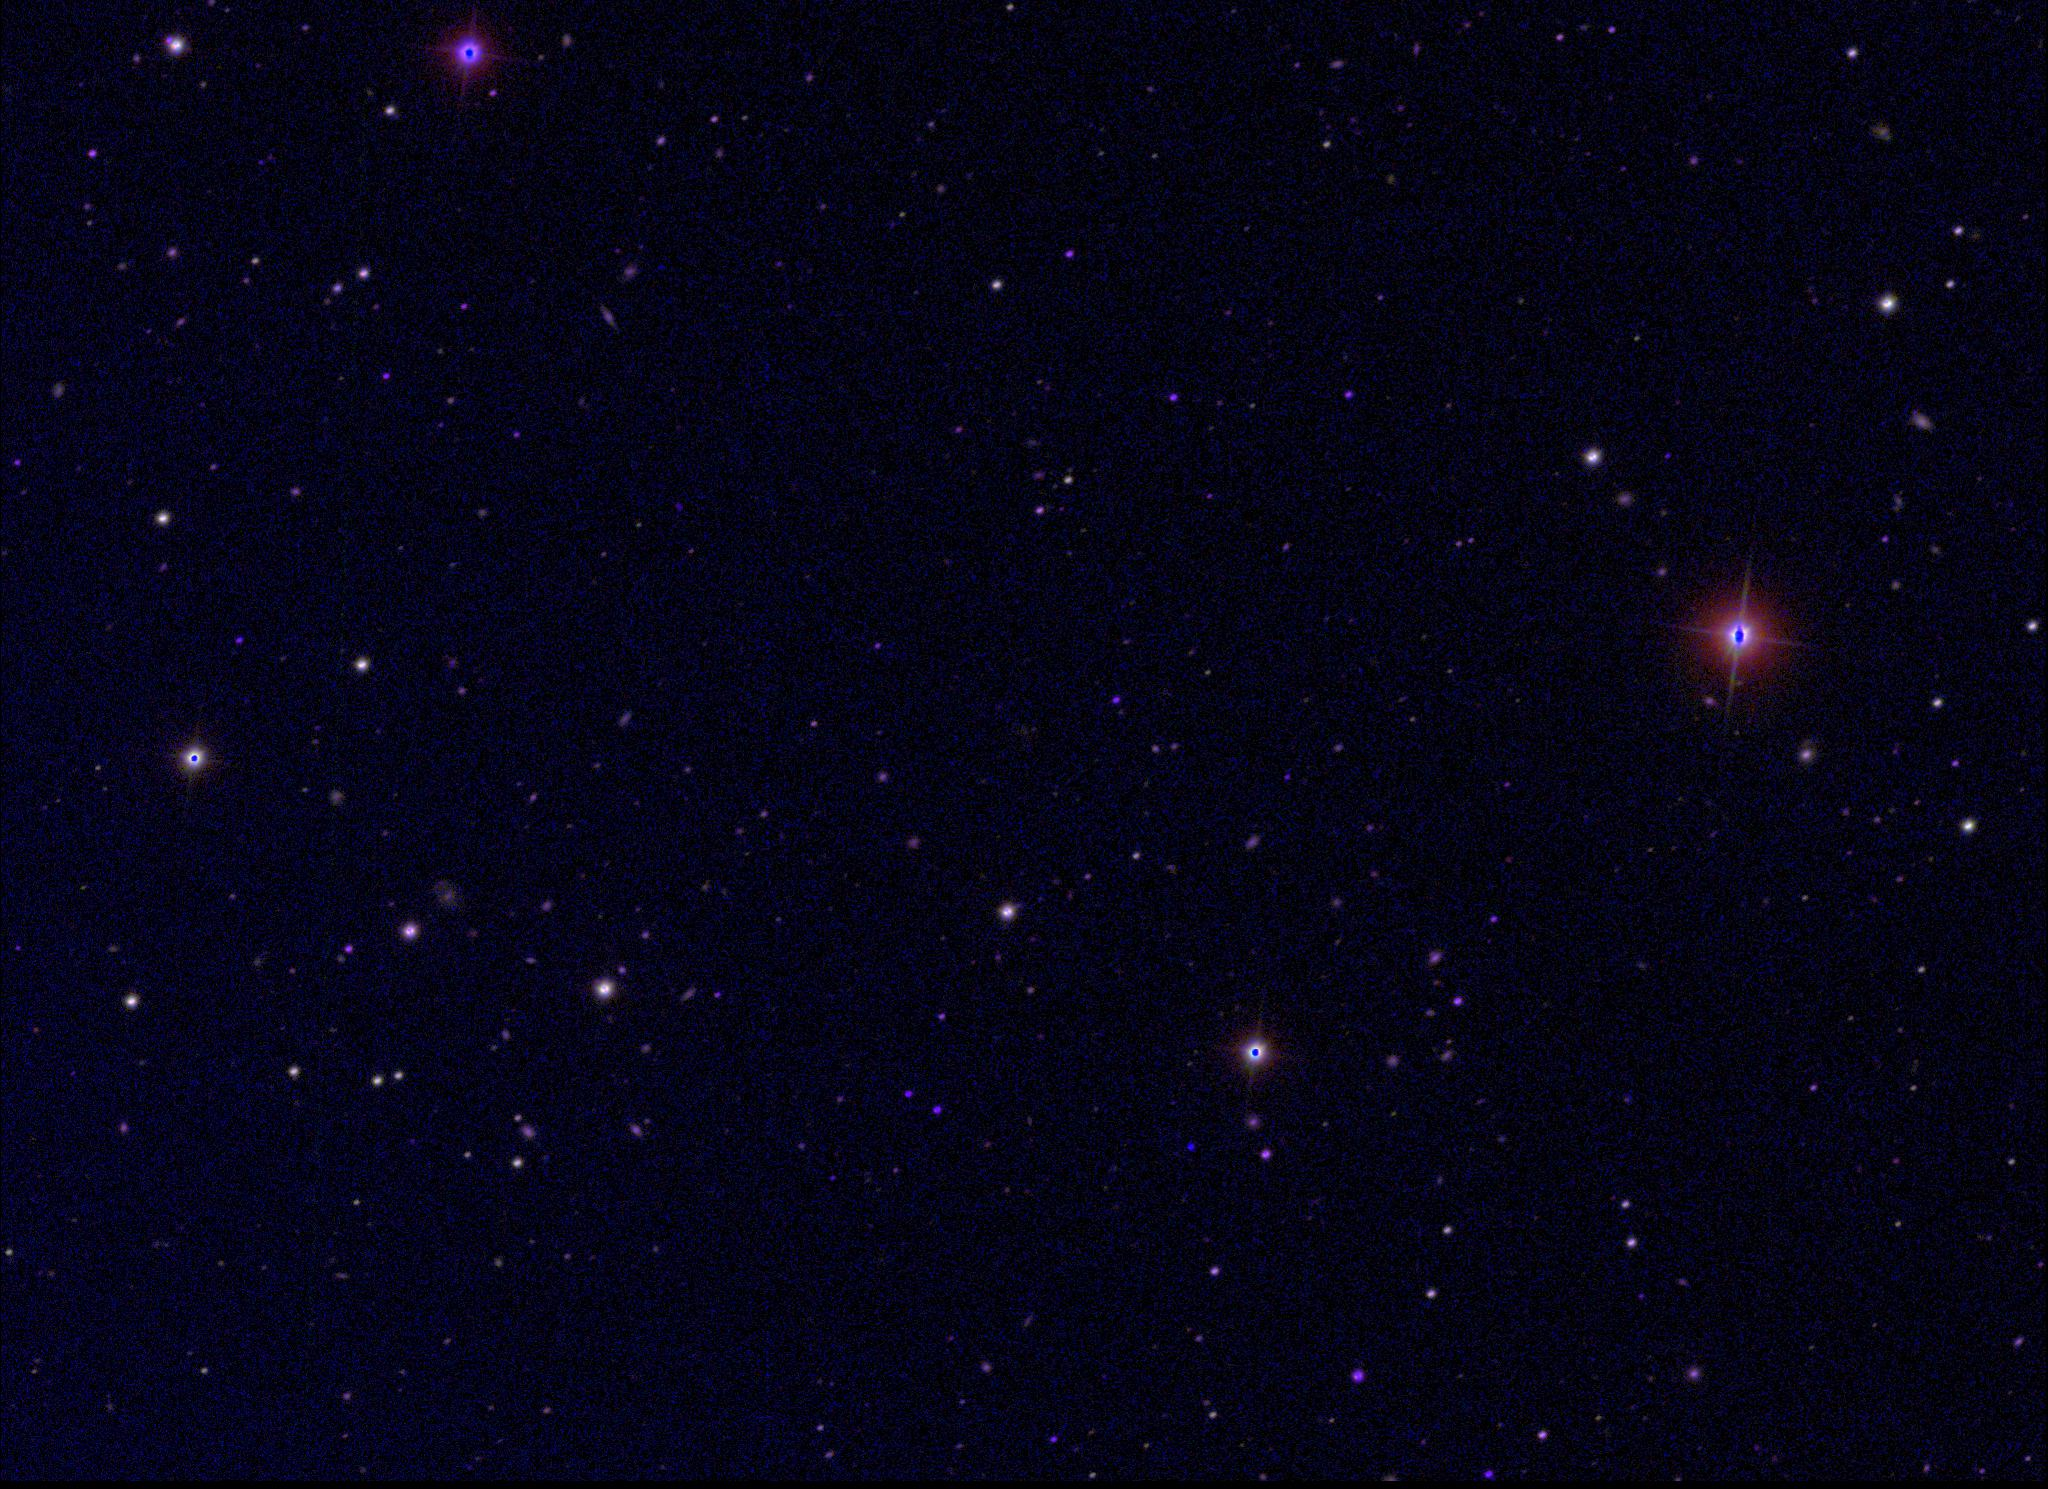L: (1186, 1137, 1200, 1152)
